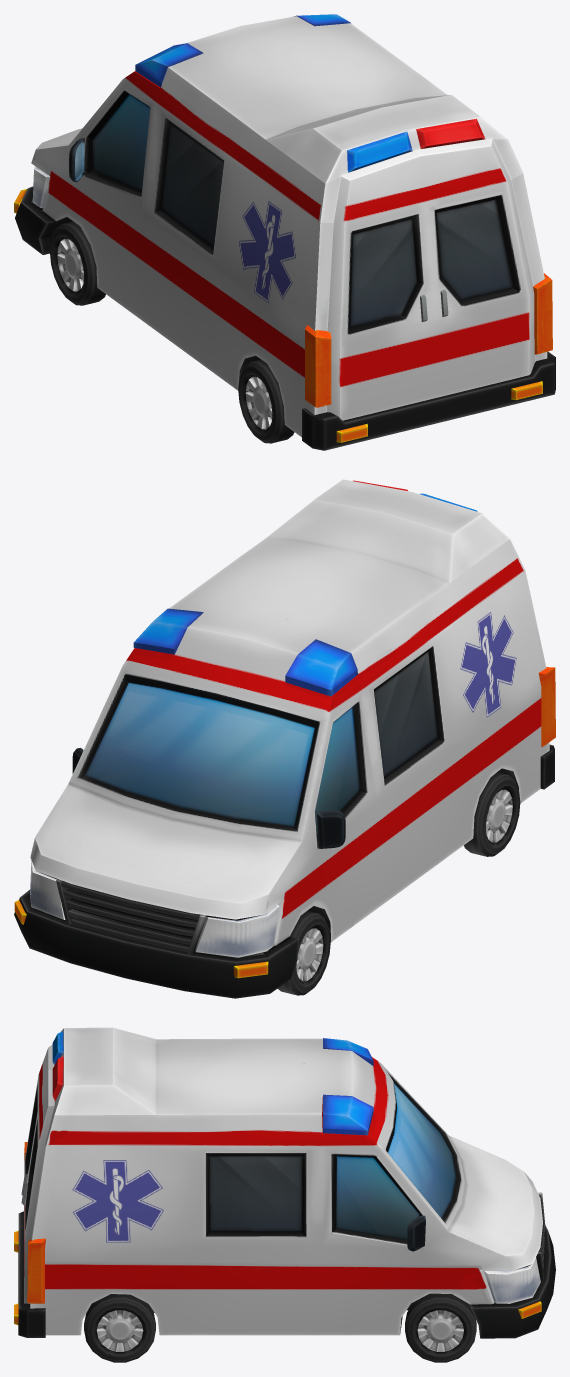
The model's file is Emergancy.fbx.
The picture shows the model from 3 angles, top to bottom: view 1: azimuth 30°, elevation 25°; view 2: azimuth 150°, elevation 25°; view 3: azimuth 270°, elevation 25°; orthographic projection. The views are drawn at different scales.
Parts seen in each view (by area): view 1: ambulance; view 2: ambulance; view 3: ambulance.
Part boxes in pixels (x1,y1,x2,y2): ambulance: [14, 14, 555, 450]; ambulance: [14, 479, 555, 998]; ambulance: [14, 1027, 555, 1362].
Bounding box in the file's own units: 1373 × 1501 × 2818.
Materials: 1 (1 with a texture image).
